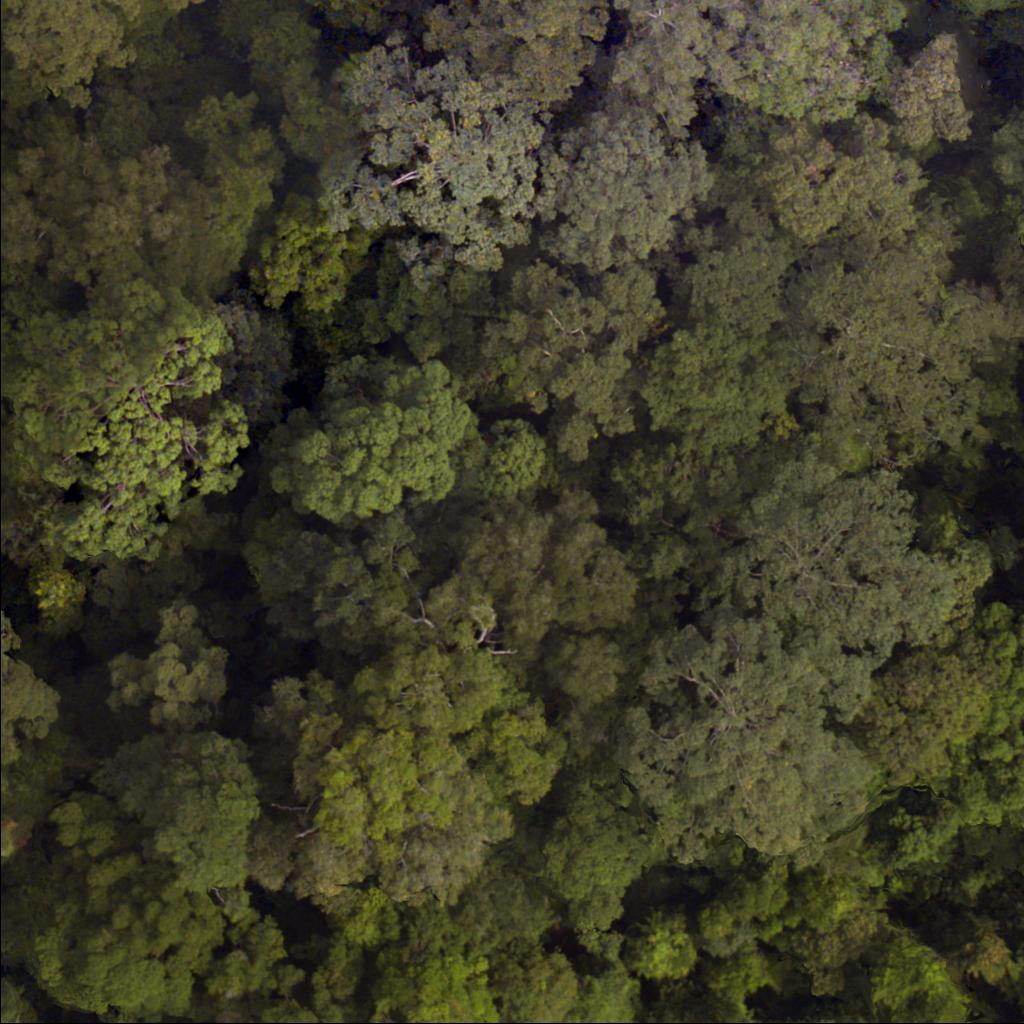crown: (284, 630, 558, 910), (0, 281, 257, 557), (774, 204, 1023, 465), (616, 620, 877, 859), (720, 461, 959, 684), (334, 42, 540, 288), (481, 254, 657, 462), (281, 364, 479, 527), (244, 504, 429, 664), (105, 729, 263, 902), (534, 117, 701, 272), (416, 0, 621, 113), (704, 110, 853, 242), (756, 0, 909, 124), (871, 638, 992, 791), (641, 333, 797, 448), (108, 598, 233, 738), (679, 203, 792, 343), (0, 0, 143, 101), (257, 197, 368, 327), (549, 791, 646, 936), (883, 20, 980, 157), (535, 621, 634, 740), (822, 117, 941, 210), (863, 919, 969, 1023), (455, 860, 563, 962), (492, 956, 637, 1023), (363, 953, 499, 1023), (982, 106, 1023, 305), (478, 419, 551, 500), (623, 920, 703, 986), (32, 569, 94, 648), (305, 0, 411, 37), (952, 0, 1023, 36), (0, 978, 39, 1023), (1004, 607, 1023, 660), (165, 0, 203, 14)
